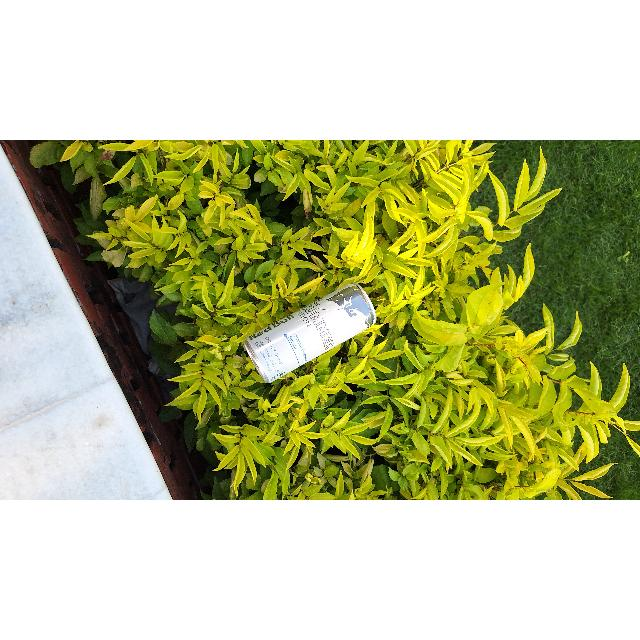Redbull Summer Edition: (245, 280, 378, 382)
